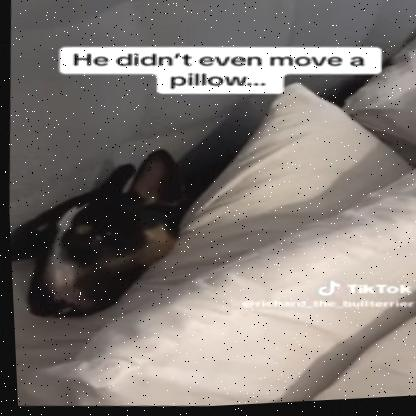dog: (9, 131, 211, 321)
